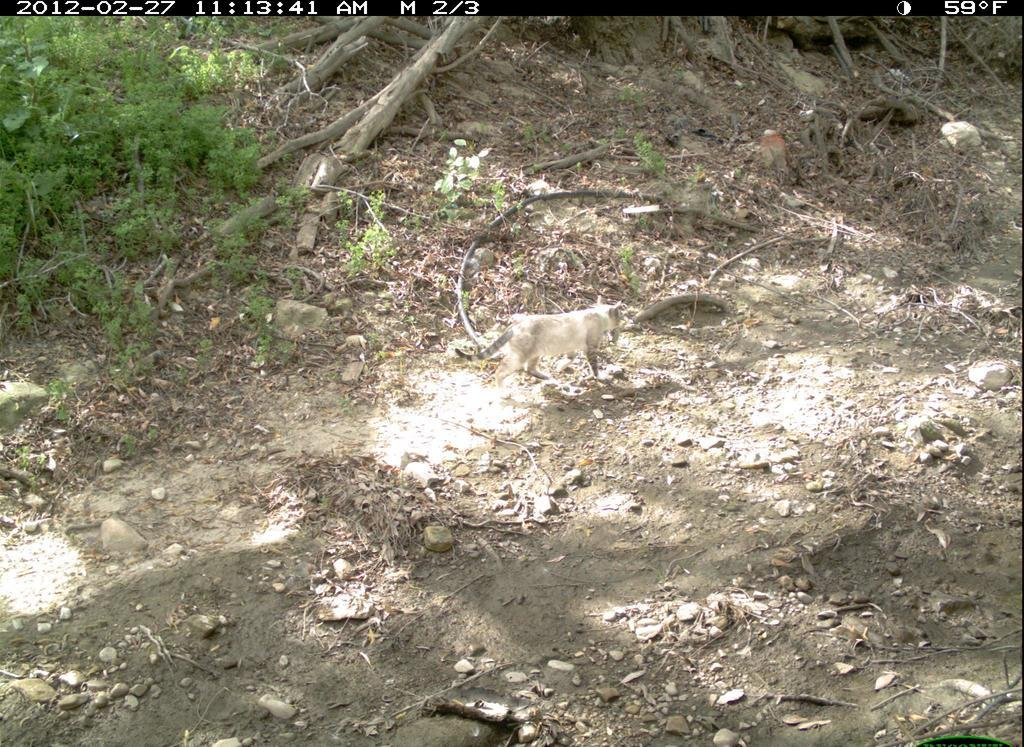cat: (451, 292, 634, 405)
